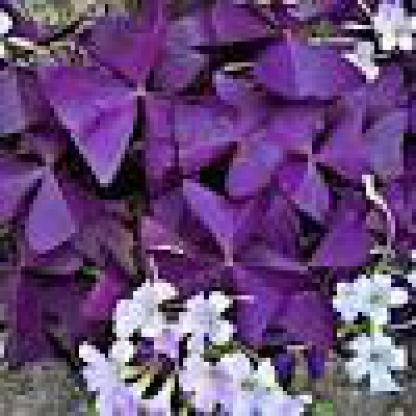Kupu-Kupu: (64, 18, 197, 180), (168, 193, 293, 322), (193, 80, 326, 167), (1, 139, 101, 247)
